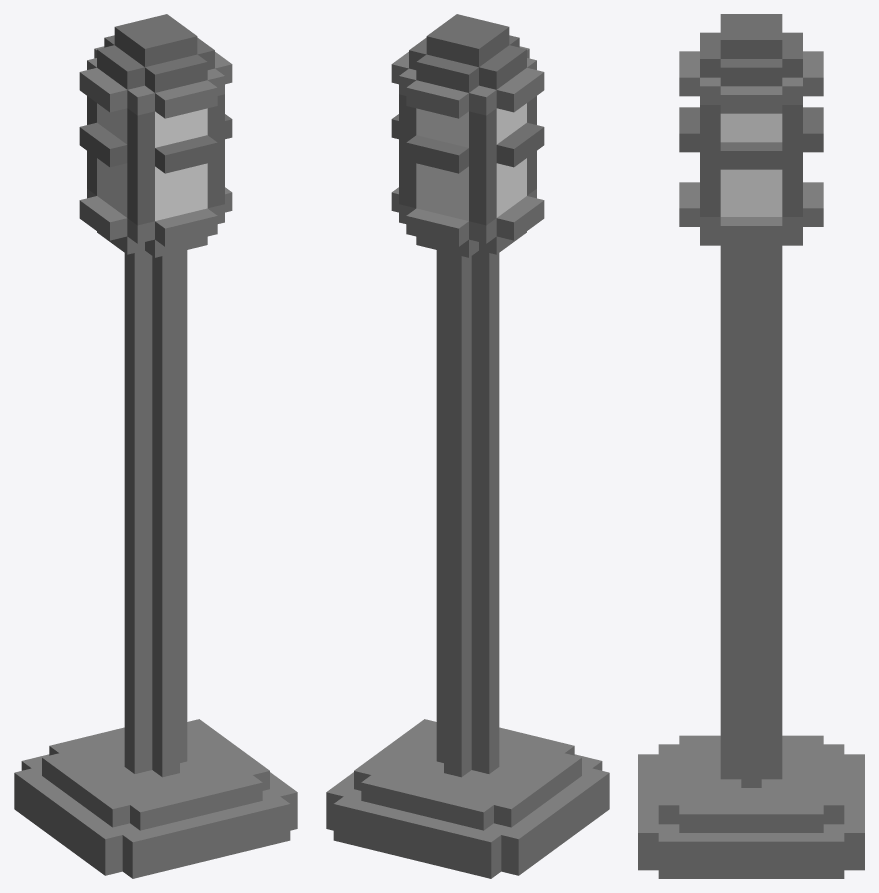
Rendered from gglive_poste.obj.
3 renders of one model, left to right at view 1: azimuth 30°, elevation 25°; view 2: azimuth 150°, elevation 25°; view 3: azimuth 270°, elevation 25°, orthographic. The views are drawn at different scales.
Bounding box in the file's own units: 11 × 43 × 11.
1 material, 1 textured.
